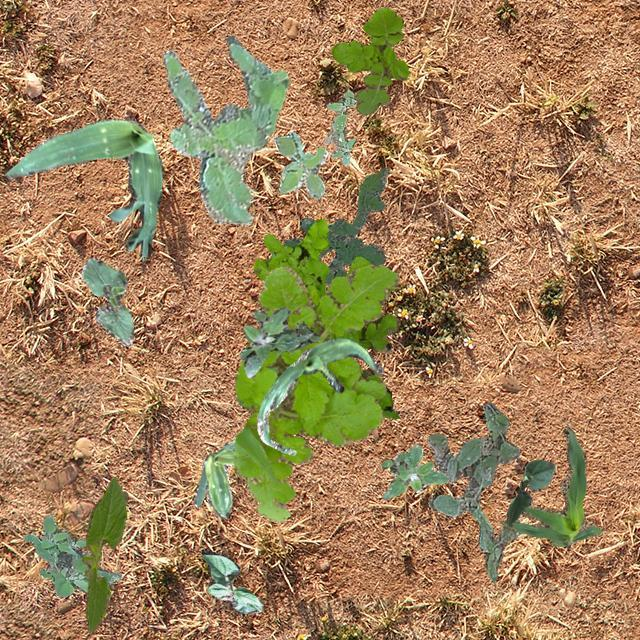crop: (4, 118, 162, 260), (256, 338, 382, 453), (499, 426, 602, 548), (80, 477, 128, 632), (80, 256, 132, 346), (200, 550, 262, 612), (192, 438, 234, 518), (506, 458, 554, 526)
weed: (232, 264, 398, 520), (253, 218, 399, 418), (162, 34, 288, 224), (426, 402, 518, 582), (282, 166, 388, 284), (330, 5, 408, 114), (22, 514, 120, 596), (238, 306, 320, 376), (272, 132, 328, 198), (380, 444, 448, 498), (324, 90, 356, 164)
